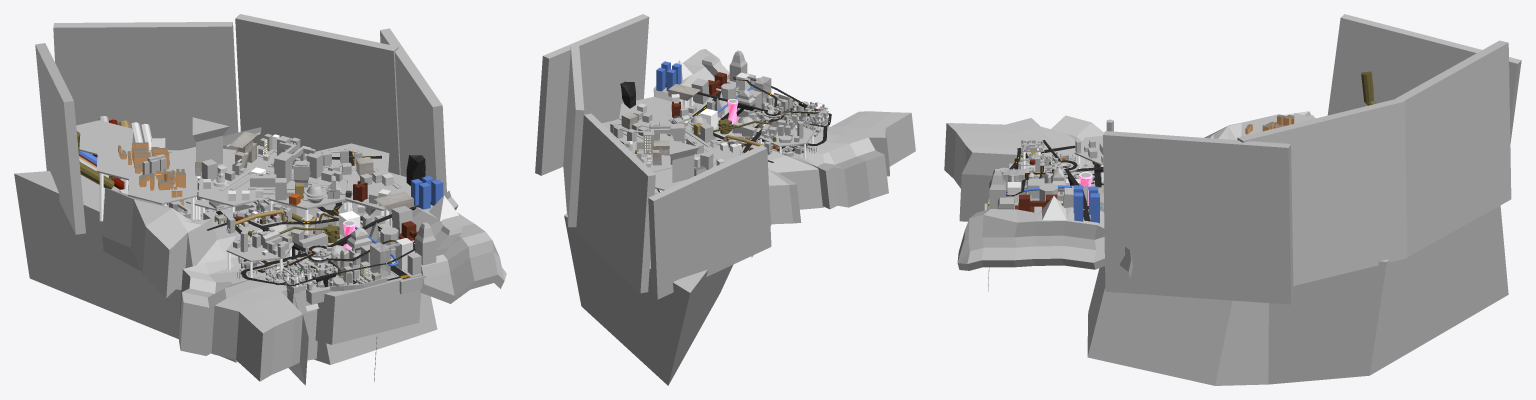
The model's file is megacitytwo.gltf.
3 renders of one model, left to right at view 1: azimuth 30°, elevation 25°; view 2: azimuth 150°, elevation 25°; view 3: azimuth 270°, elevation 25°, orthographic. The views are drawn at different scales.
Parts seen in each view (by area): view 1: Plane.001, Cube.627, Cube.061, Cube.060, Cube.628, Plane.002, Cube.062, Cylinder.085, Cylinder.099, Cylinder.054, Cylinder.053, Cube.373 (+17 smaller); view 2: Cube.628, Plane.001, Cube.060, Cube.627, Cube.062, Cube.061, Plane.002, Cylinder.099, Cylinder.038, Cube.373, Cube.492, Cylinder.030 (+9 smaller); view 3: Cube.060, Cube.062, Cube.061, Cube.627, Cube.628, Plane.002, Plane.001, Cube.434.
Part boxes in pixels (box(x1,y1,x2,y2)): Plane.001: box(102, 188, 422, 385); Cube.627: box(53, 22, 238, 154); Cube.061: box(235, 14, 400, 175); Cube.060: box(14, 171, 437, 364); Cube.628: box(35, 43, 85, 234); Plane.002: box(360, 190, 506, 303); Cube.062: box(380, 28, 447, 198); Cylinder.085: box(76, 120, 133, 155); Cylinder.099: box(192, 117, 229, 164); Cylinder.054: box(128, 170, 197, 204); Cylinder.053: box(198, 172, 269, 206); Cube.373: box(207, 216, 415, 286); Cube.628: box(648, 145, 771, 299); Plane.001: box(713, 94, 915, 257); Cube.060: box(564, 138, 732, 385); Cube.627: box(576, 113, 655, 293); Cube.062: box(535, 14, 649, 175); Cube.061: box(563, 45, 584, 227); Plane.002: box(653, 49, 737, 127); Cylinder.099: box(669, 140, 699, 182); Cylinder.038: box(619, 97, 684, 127); Cube.373: box(690, 77, 831, 162); Cube.492: box(650, 121, 684, 148); Cylinder.030: box(759, 123, 814, 146); Cube.060: box(1087, 205, 1508, 385); Cube.062: box(1103, 131, 1293, 304); Cube.061: box(1237, 98, 1407, 285); Cube.627: box(1395, 40, 1511, 257); Cube.628: box(1327, 14, 1521, 143); Plane.002: box(957, 200, 1132, 278); Plane.001: box(944, 111, 1310, 291); Cube.434: box(989, 169, 1005, 209).
Size of the model in its own units: 2039 by 1606 by 2969.
